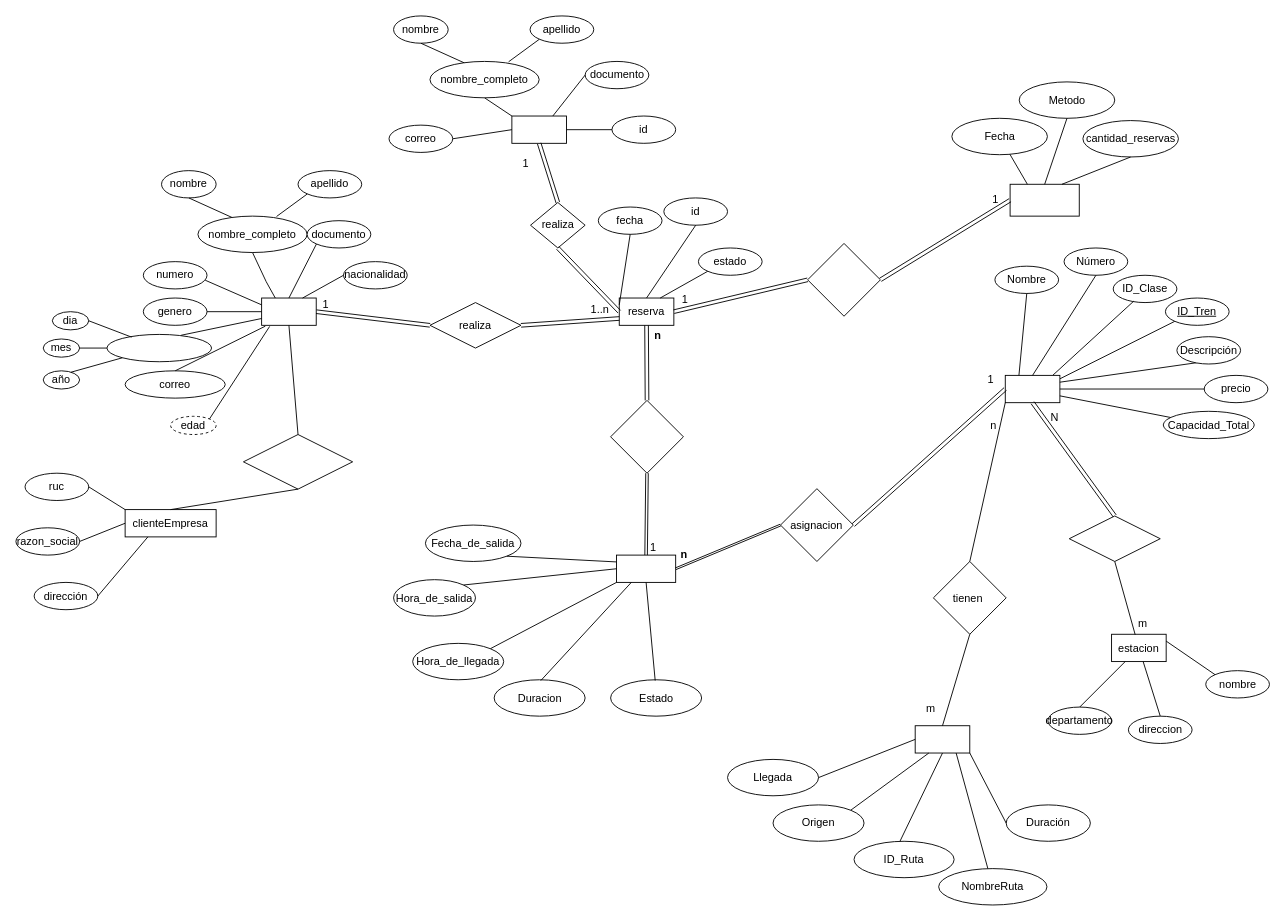
Image size: 1286x921. Some labels were removed from this diagram. The shapes that lost their labels are listed below. From the top down, each one's centre as x and y in pixels, then its label:
At pixel 538 129: "empleado".
At pixel 1044 199: "Pago".
At pixel 843 279: "conlleva".
At pixel 288 311: "cliente".
At pixel 159 348: "fecha_nacimiento".
At pixel 1032 388: "Tren".
At pixel 646 436: "corresponde".
At pixel 298 461: "puede ser".
At pixel 1114 538: "llega a la".
At pixel 646 568: "Horario".
At pixel 942 739: "Ruta".
